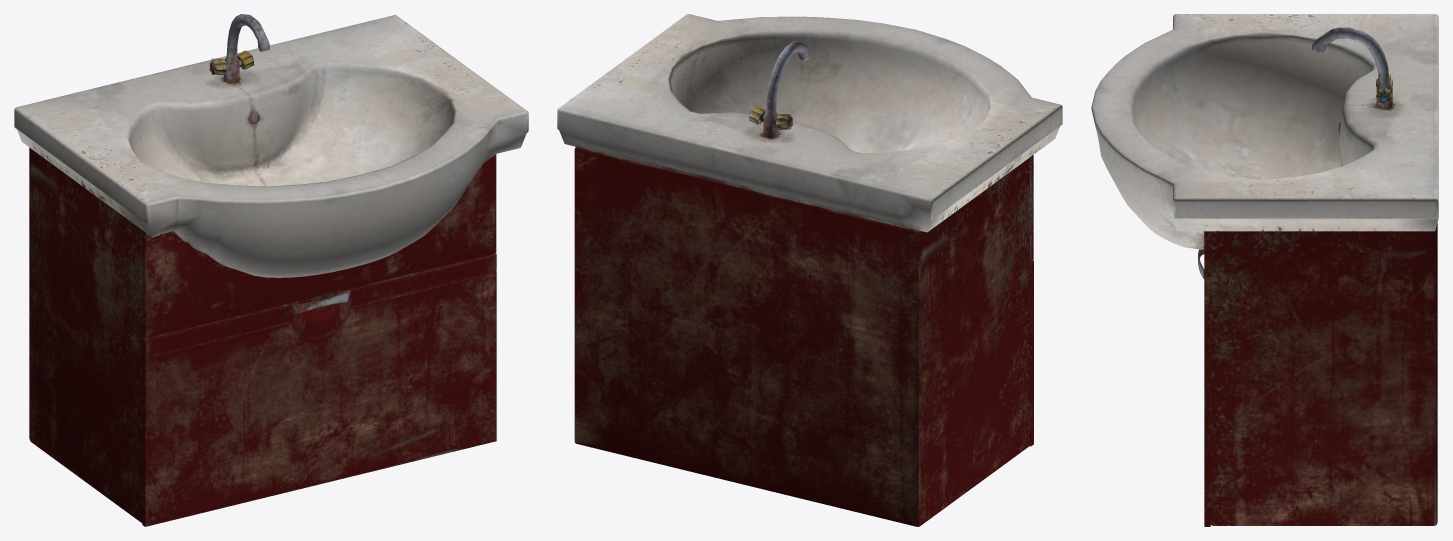
File: sink.glb
The picture shows the model from 3 angles, left to right: view 1: azimuth 30°, elevation 25°; view 2: azimuth 150°, elevation 25°; view 3: azimuth 270°, elevation 25°; orthographic projection.
Parts seen in each view (by area): view 1: g; view 2: g; view 3: g.
Part boxes in pixels (box(x1,y1,x2,y2)): g: box(14, 14, 528, 526); g: box(557, 14, 1062, 526); g: box(1091, 14, 1438, 526).
Bounding box in the file's own units: 0.8199 × 0.85 × 0.6462.
1 material, 1 textured.
